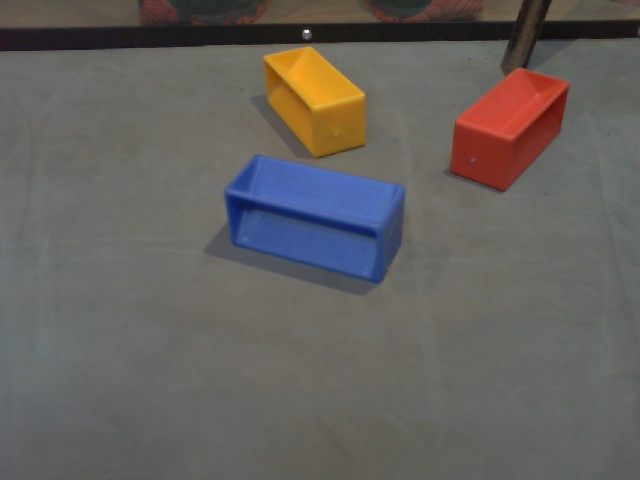BlueSample: (223, 148, 407, 287)
RedSample: (444, 65, 571, 197)
YellowSample: (259, 46, 373, 158)
